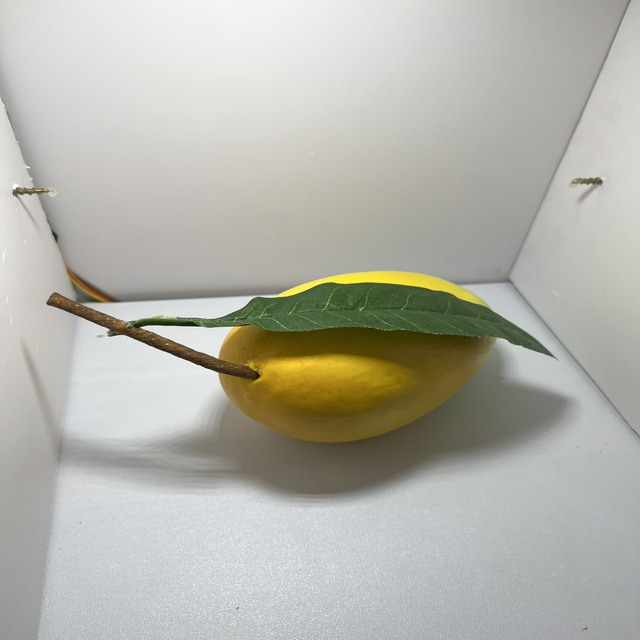Xoai: (211, 265, 513, 447)
